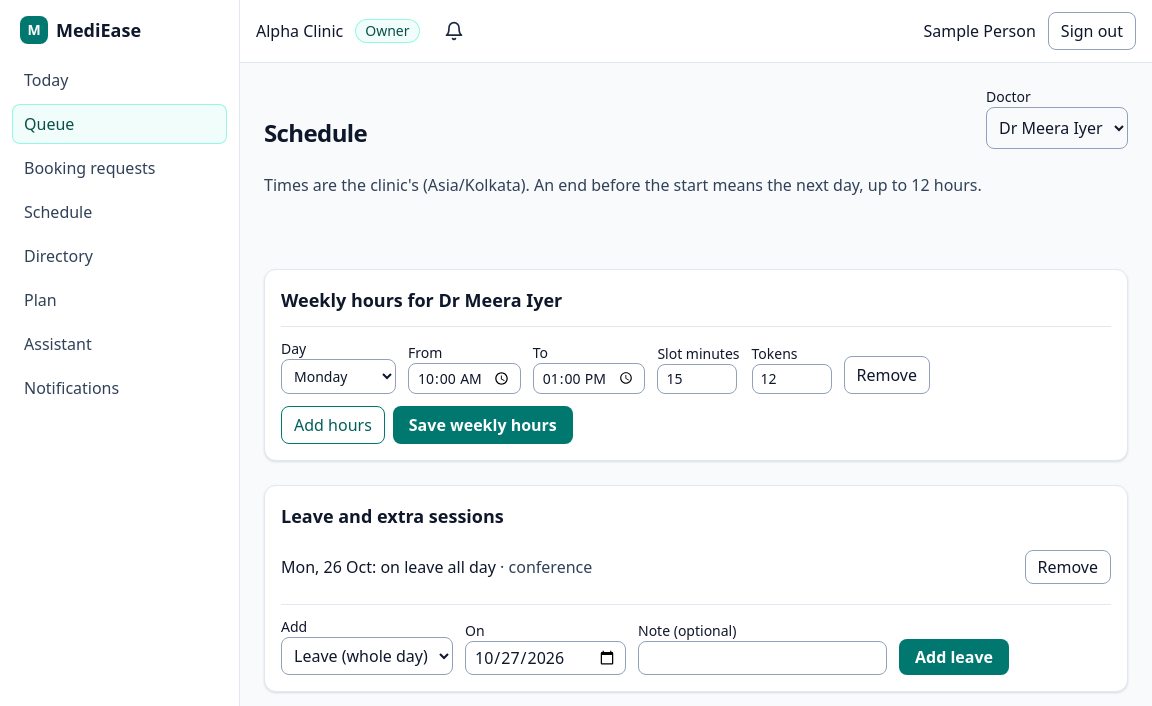
Test case: schedule settings (D31, FR-APT-01) › R14, R15: names the block a schedule error is about
This screenshot has width=1152, height=706.
Click the button "Save weekly hours" at coordinates (483, 425), box [393, 406, 573, 444]
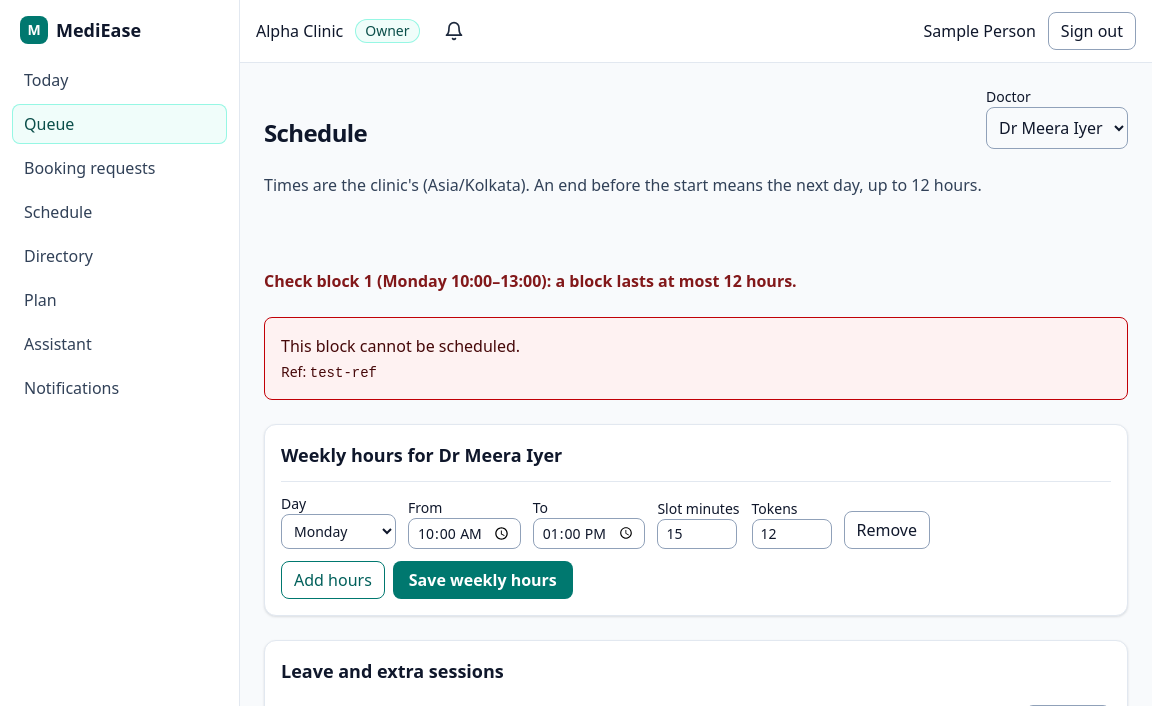
Expected: the text "Check block 1 (Monday 10:00–13:00): a block lasts at most 12 hours." is shown, [264, 270, 797, 292]
